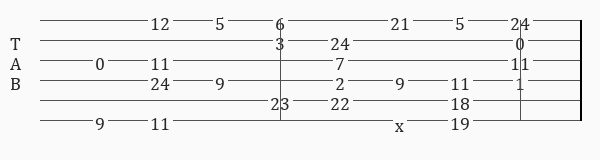0: (95, 52, 109, 68), (515, 32, 529, 48)
1: (515, 72, 529, 88)
11: (150, 52, 174, 68), (150, 112, 174, 128), (450, 72, 474, 88), (510, 52, 534, 68)
12: (150, 12, 174, 28)
18: (450, 92, 474, 108)
19: (450, 112, 474, 128)
2: (335, 72, 349, 88)
21: (390, 12, 414, 28)
22: (330, 92, 354, 108)
23: (270, 92, 294, 108)
24: (150, 72, 174, 88), (330, 32, 354, 48), (510, 12, 534, 28)
3: (275, 32, 289, 48)
5: (215, 12, 229, 29), (455, 12, 469, 29)
6: (275, 12, 289, 28)
7: (335, 52, 349, 69)
9: (95, 112, 109, 128), (215, 72, 229, 88), (395, 72, 409, 88)
x: (395, 114, 408, 127)
